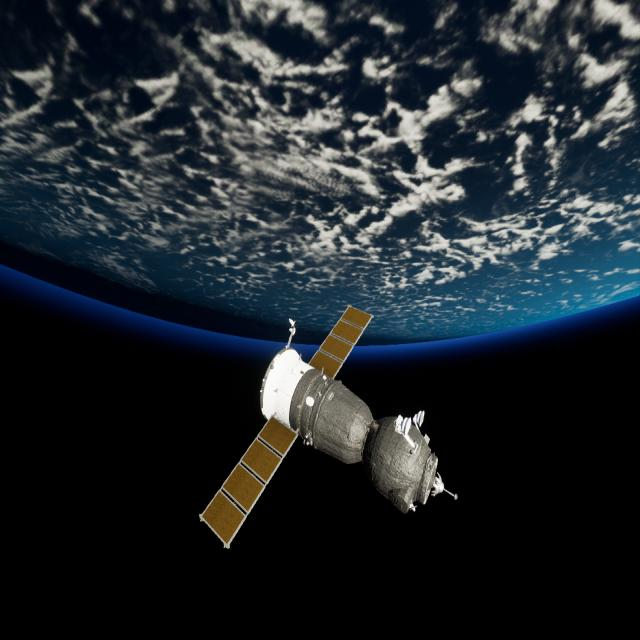Satellites revolving around earth: (197, 302, 459, 552)
